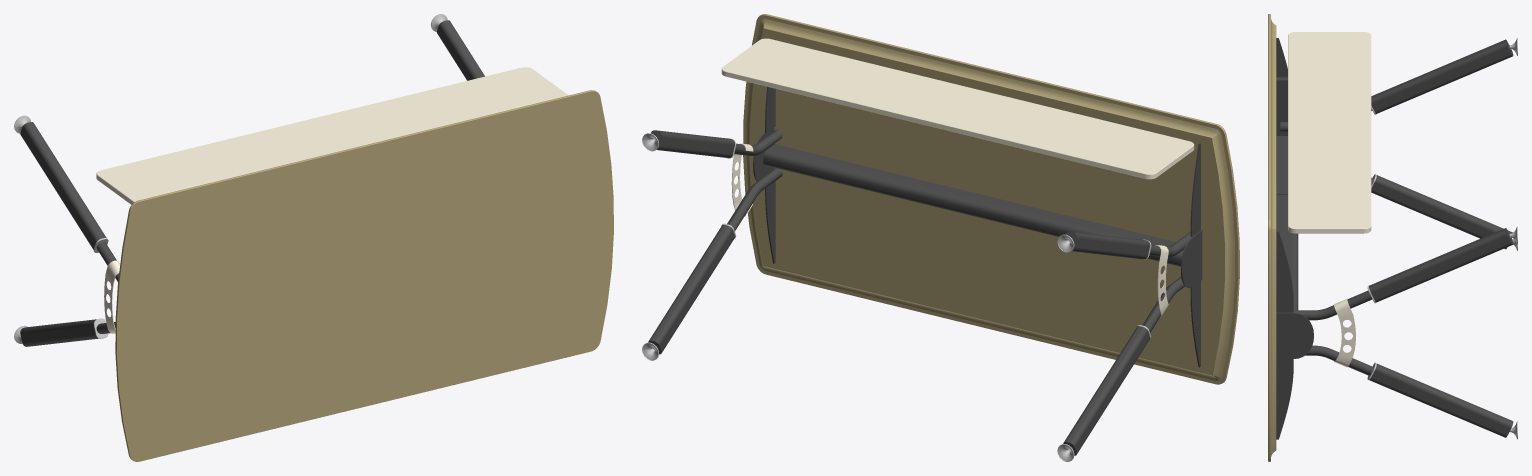
File: table_ikea.obj
3 views of the same model, side by side, from view 1: azimuth 30°, elevation 25°; view 2: azimuth 150°, elevation 25°; view 3: azimuth 270°, elevation 25° (orthographic). The views are drawn at different scales.
Parts seen in each view (by area): view 1: __________, Rectangl10, Rectangle8, Rectangle6, Rectangle3, Line523; view 2: __________, Rectangl10, _05, Rectangle6, Rectangle1, Rectangle8, Rectangle3, Rectangle4, Line516, Line519, Line520, Line515; view 3: Rectangl10, __________, Rectangle3, Rectangle8, Rectangle1, Rectangle6, _05, Rectangle9, Line514, Line515, Line513, Line519 (+2 smaller).
Part boxes in pixels (left/top/right/bottom): __________: left=115, top=90, right=613, bottom=461; Rectangl10: left=96, top=67, right=568, bottom=204; Rectangle8: left=20, top=122, right=106, bottom=249; Rectangle6: left=20, top=319, right=98, bottom=346; Rectangle3: left=437, top=20, right=484, bottom=80; Line523: left=104, top=260, right=120, bottom=333; __________: left=743, top=14, right=1239, bottom=384; Rectangl10: left=721, top=38, right=1194, bottom=179; _05: left=763, top=144, right=1183, bottom=266; Rectangle6: left=1063, top=326, right=1150, bottom=455; Rectangle1: left=648, top=225, right=734, bottom=354; Rectangle8: left=1066, top=231, right=1150, bottom=259; Rectangle3: left=651, top=130, right=734, bottom=157; Rectangle4: left=1180, top=230, right=1202, bottom=287; Line516: left=727, top=168, right=782, bottom=230; Line519: left=1190, top=143, right=1200, bottom=236; Line520: left=1190, top=281, right=1200, bottom=367; Line515: left=765, top=181, right=775, bottom=263; Rectangl10: left=1288, top=32, right=1371, bottom=233; __________: left=1268, top=14, right=1276, bottom=461; Rectangle3: left=1369, top=228, right=1513, bottom=302; Rectangle8: left=1371, top=39, right=1513, bottom=113; Rectangle1: left=1370, top=363, right=1513, bottom=437; Rectangle6: left=1371, top=175, right=1512, bottom=249; _05: left=1276, top=136, right=1298, bottom=310; Rectangle9: left=1276, top=312, right=1313, bottom=359; Line514: left=1276, top=231, right=1293, bottom=312; Line515: left=1276, top=359, right=1293, bottom=439; Line513: left=1334, top=298, right=1355, bottom=367; Line519: left=1276, top=38, right=1287, bottom=119.
Bounding box in the file's own units: 1600 × 801 × 750.
